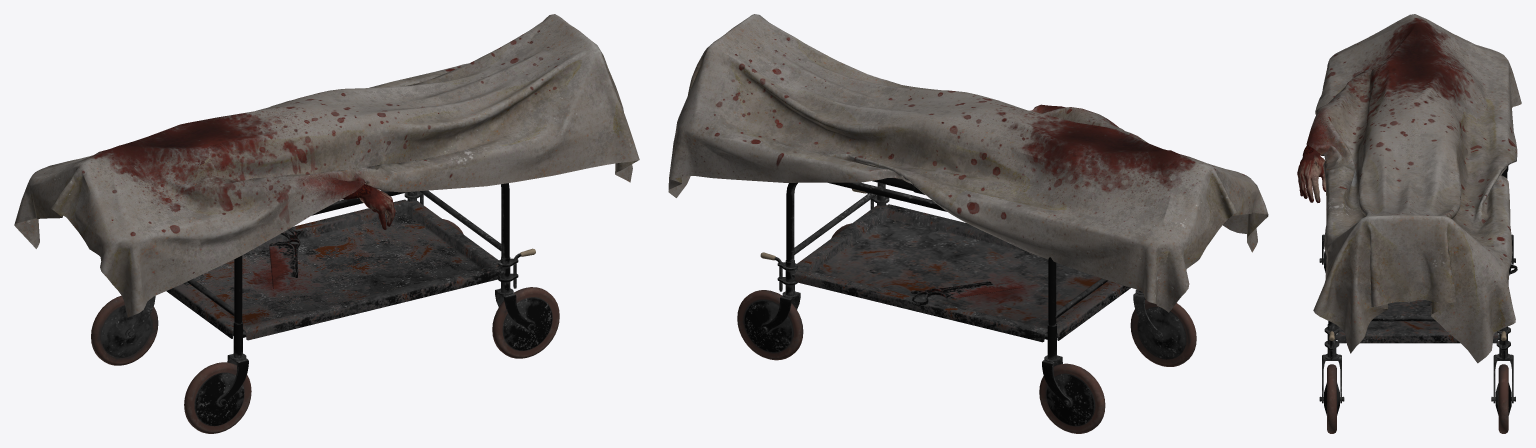
The model's file is covered_corpse__PBr.obj.
3 views of the same model, side by side, from view 1: azimuth 30°, elevation 25°; view 2: azimuth 150°, elevation 25°; view 3: azimuth 270°, elevation 25° (orthographic). The views are drawn at different scales.
Parts seen in each view (by area): view 1: Pokrivalo, All_reop_katalka, Pila, Arm; view 2: Pokrivalo, All_reop_katalka, Pila; view 3: Pokrivalo, All_reop_katalka, Arm.
Boxes of the visible parts, bbox=[...] form: Pokrivalo: bbox=[14, 14, 639, 317]; All_reop_katalka: bbox=[91, 156, 559, 433]; Pila: bbox=[269, 228, 302, 289]; Arm: bbox=[341, 184, 395, 229]; Pokrivalo: bbox=[668, 14, 1268, 312]; All_reop_katalka: bbox=[737, 178, 1196, 433]; Pila: bbox=[911, 281, 1023, 305]; Pokrivalo: bbox=[1306, 14, 1521, 363]; All_reop_katalka: bbox=[1319, 166, 1515, 433]; Arm: bbox=[1297, 144, 1325, 202].
Size of the model in its own units: 2042 by 985 by 785.
